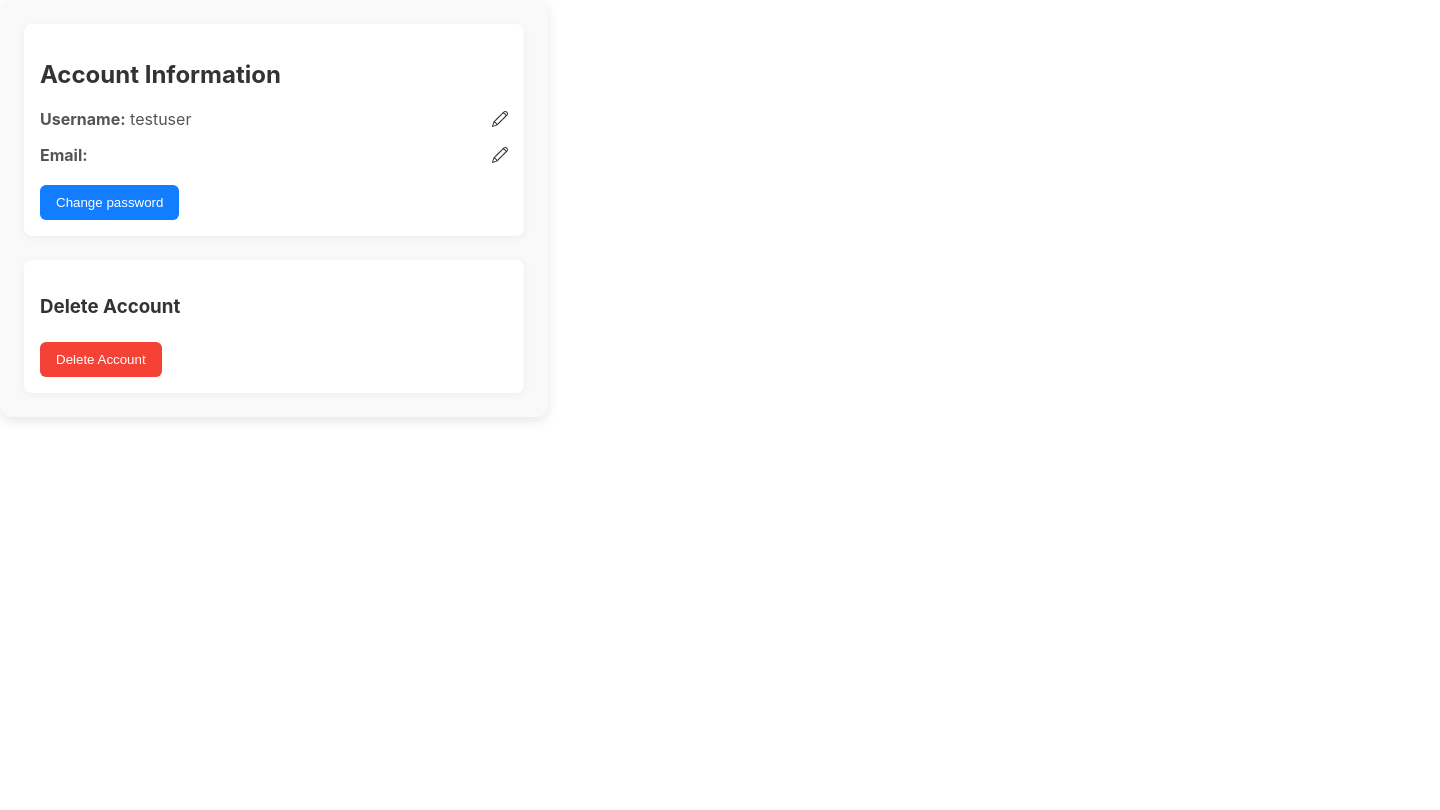
AccountSettings component › opens password popup when button clicked
This screenshot has width=1440, height=810.
Click the button with test id "update-password" at (110, 202), box [40,185,179,220]
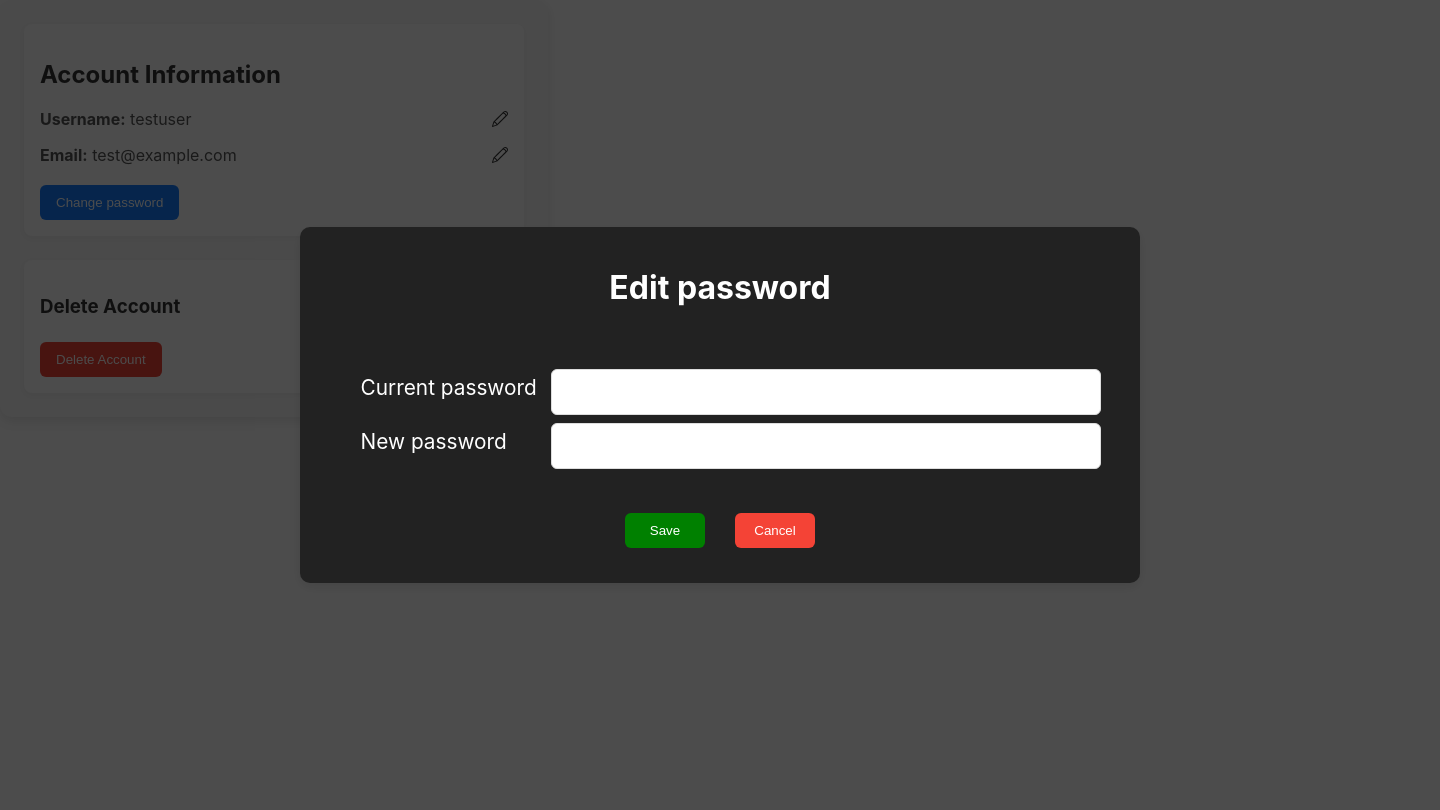
Check: the heading "Edit password" is shown, box [609,268,831,307]
